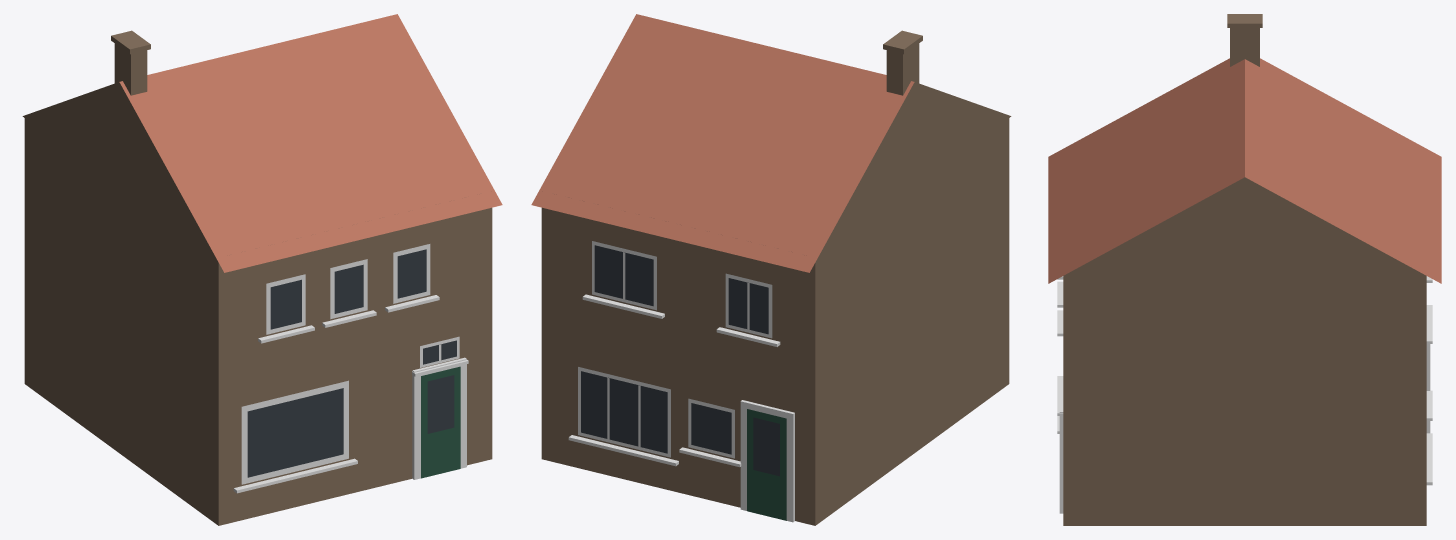
Rendered from ws-wz-plain__brick__2__gable__long__solid__mirror.glb.
3 renders of one model, left to right at view 1: azimuth 30°, elevation 25°; view 2: azimuth 150°, elevation 25°; view 3: azimuth 270°, elevation 25°, orthographic. The views are drawn at different scales.
Parts seen in each view (by area): view 1: ws-wz-plain__brick__2__gable__long__solid__mirror; view 2: ws-wz-plain__brick__2__gable__long__solid__mirror; view 3: ws-wz-plain__brick__2__gable__long__solid__mirror.
Boxes of the visible parts, x1,y1,x2,y2 form: ws-wz-plain__brick__2__gable__long__solid__mirror: [22, 14, 502, 525]; ws-wz-plain__brick__2__gable__long__solid__mirror: [531, 14, 1011, 525]; ws-wz-plain__brick__2__gable__long__solid__mirror: [1048, 14, 1441, 525].
Size of the model in its own units: 5.97 by 8.46 by 7.81.
